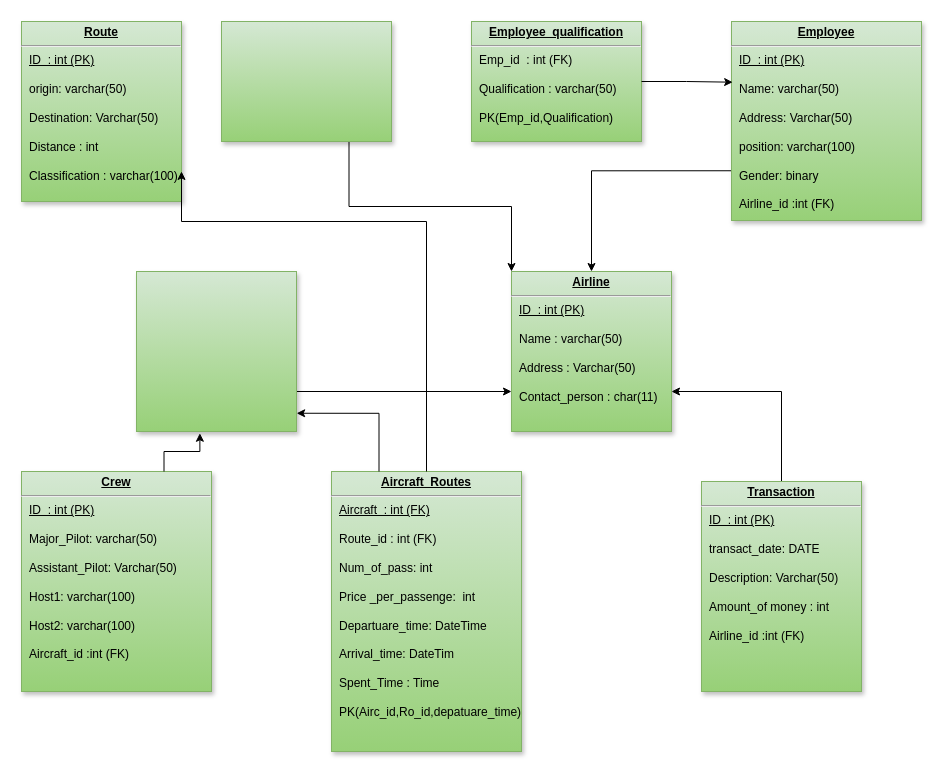
This 945x776 diagram has some shape labels left out. The centre of each missing label's shape, as x and y in pixels:
"Aircraft ID : int (PK) Model: varchar(50) Capacity: int Airline_id : int (FK)" goes at (217,352).
"Airline _Phone Airline_Id : int (FK) phone : varchar(50) PK(Airline_id,phone)" goes at (307,82).
